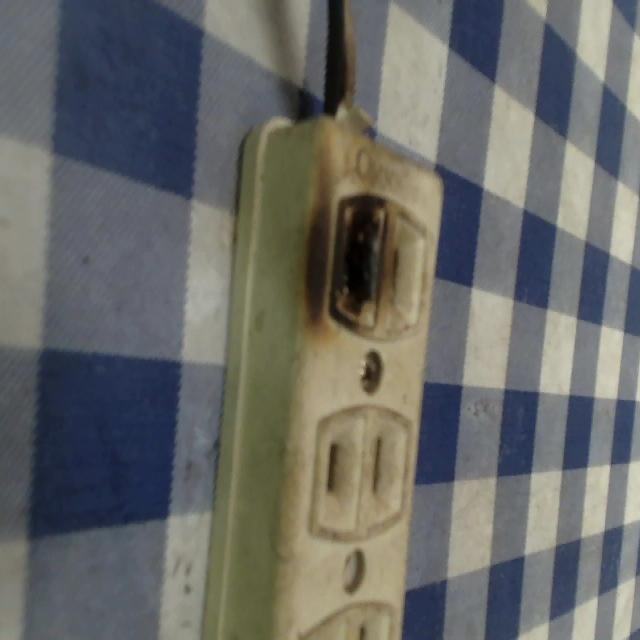-: (321, 195, 396, 332)
